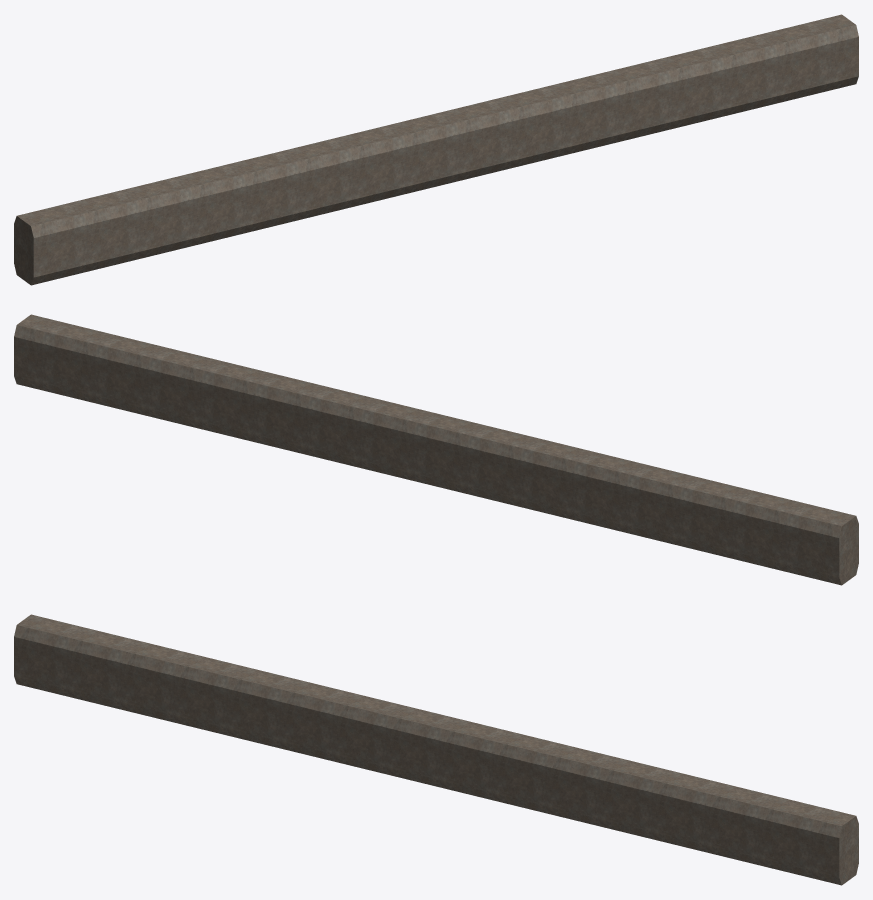
Rendered from rail.glb.
3 renders of one model, top to bottom at view 1: azimuth 30°, elevation 25°; view 2: azimuth 150°, elevation 25°; view 3: azimuth 330°, elevation 25°, orthographic.
Parts seen in each view (by area): view 1: object_1; view 2: object_1; view 3: object_1.
Part boxes in pixels (bbox=[...]): object_1: bbox=[14, 14, 858, 285]; object_1: bbox=[14, 314, 858, 585]; object_1: bbox=[14, 614, 858, 885].
Bounding box in the file's own units: 15.52 × 1.06 × 0.643.
Materials: 1 (1 with a texture image).
